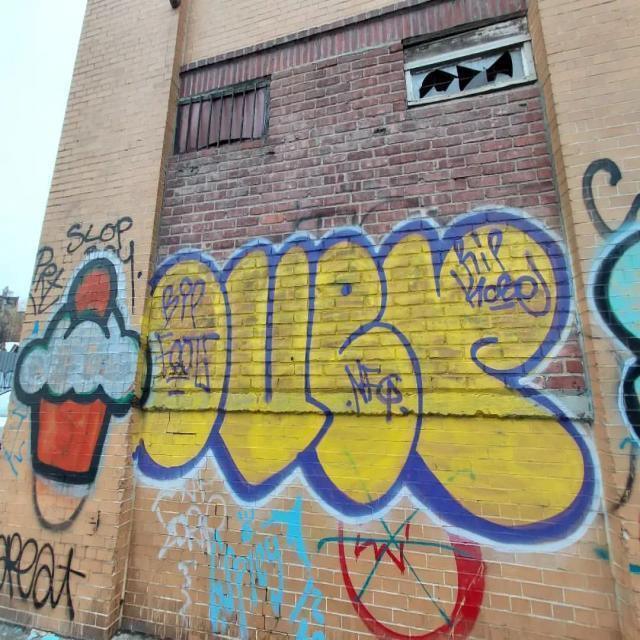nonspitting: (133, 202, 602, 552), (315, 509, 484, 640), (193, 487, 330, 640), (580, 212, 640, 441), (450, 229, 553, 320), (0, 519, 85, 618), (156, 277, 220, 391), (340, 357, 410, 420), (55, 212, 136, 262), (28, 245, 62, 317)
spitting: (15, 250, 153, 486)
